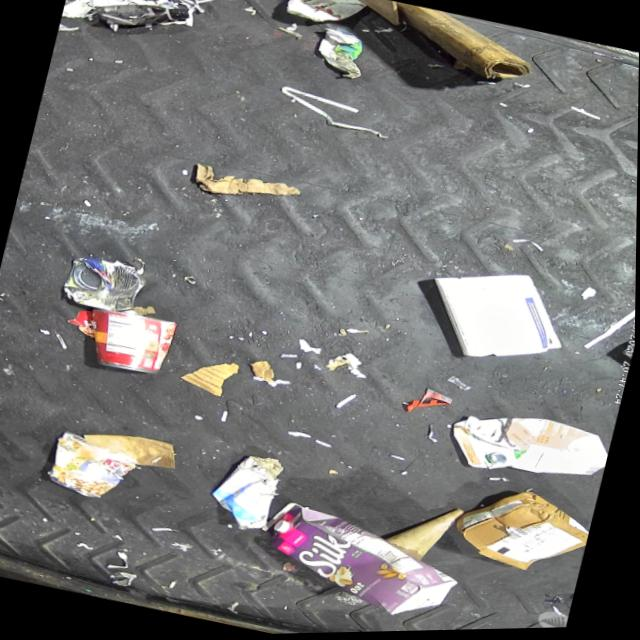can: (46, 427, 145, 508), (82, 302, 181, 380), (59, 248, 153, 319), (279, 0, 369, 32)
non_white_jug: (247, 494, 473, 633), (447, 400, 614, 499)
